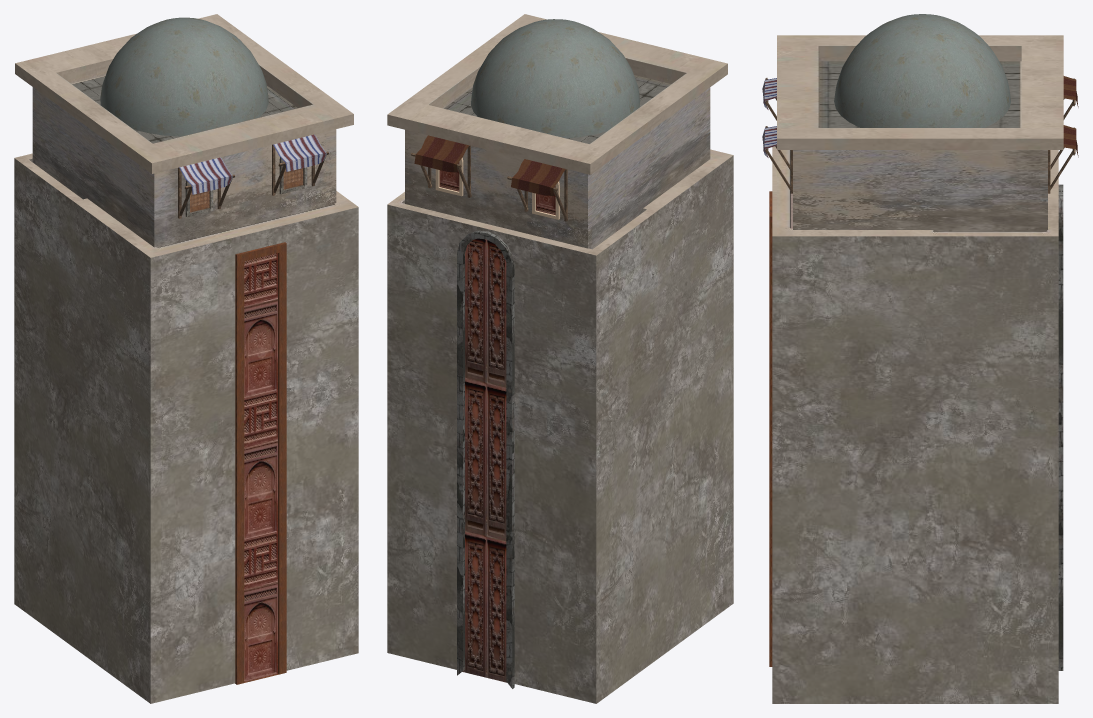
File: medina_cityscape_daar_04_7.gltf
The picture shows the model from 3 angles, left to right: view 1: azimuth 30°, elevation 25°; view 2: azimuth 150°, elevation 25°; view 3: azimuth 270°, elevation 25°; orthographic projection. The views are drawn at different scales.
Visible parts, largest first — view 1: medina_cityscape_daar_04_7; view 2: medina_cityscape_daar_04_7; view 3: medina_cityscape_daar_04_7.
Boxes of the visible parts, x1=… form: medina_cityscape_daar_04_7: x1=14, y1=14, x2=358, y2=703; medina_cityscape_daar_04_7: x1=387, y1=14, x2=733, y2=703; medina_cityscape_daar_04_7: x1=762, y1=14, x2=1078, y2=703.
Bounding box in the file's own units: 3.14 × 8.69 × 3.94.
9 materials, 9 textured.
